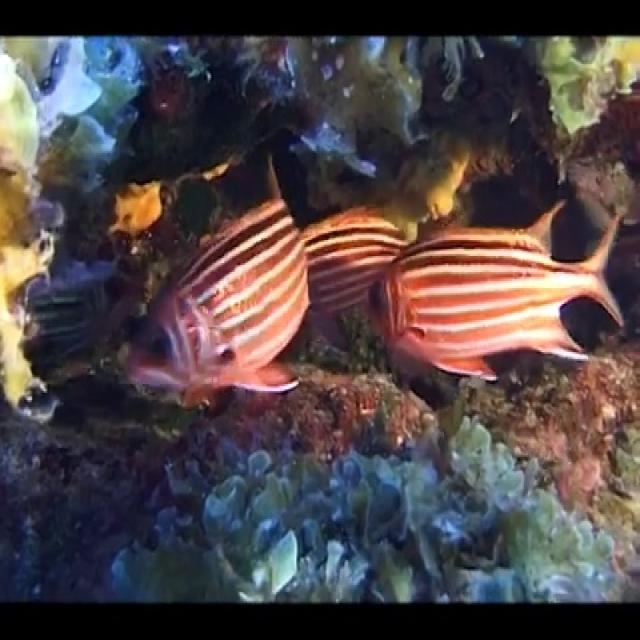Asker Baligi: (120, 177, 326, 419), (355, 210, 625, 390)
